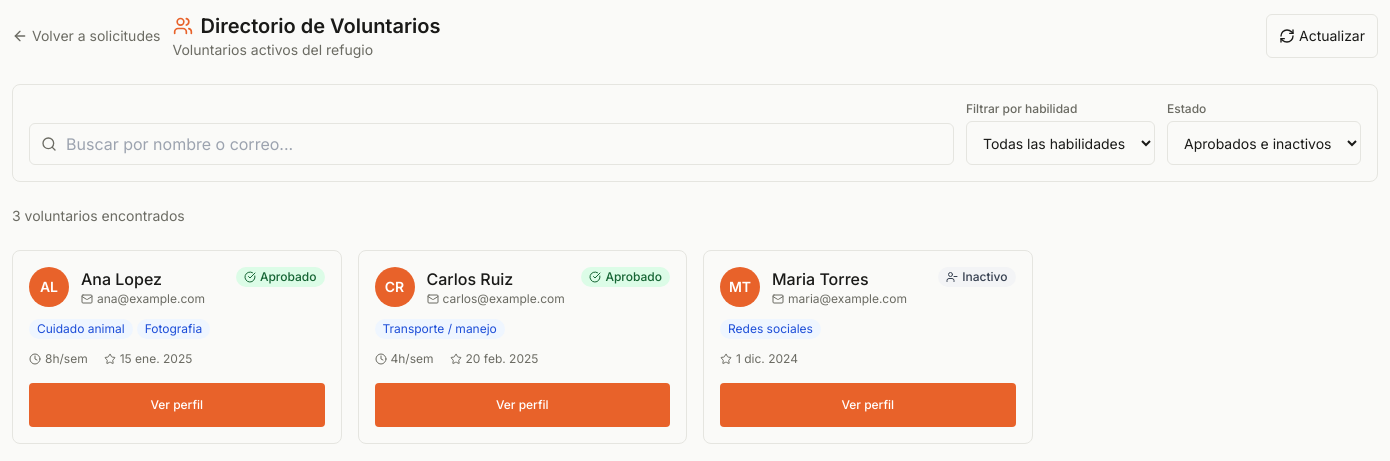
Test: VolunteerDirectoryPage › filters volunteers by name search
The width and height of the screenshot is (1390, 461).
Expected: the text "Ana Lopez" is shown, [81,269,162,289]
Type "carlos" into the field with placeholder "Buscar por nombre o correo...". click: x=492, y=144
box: [29,123,954,165]
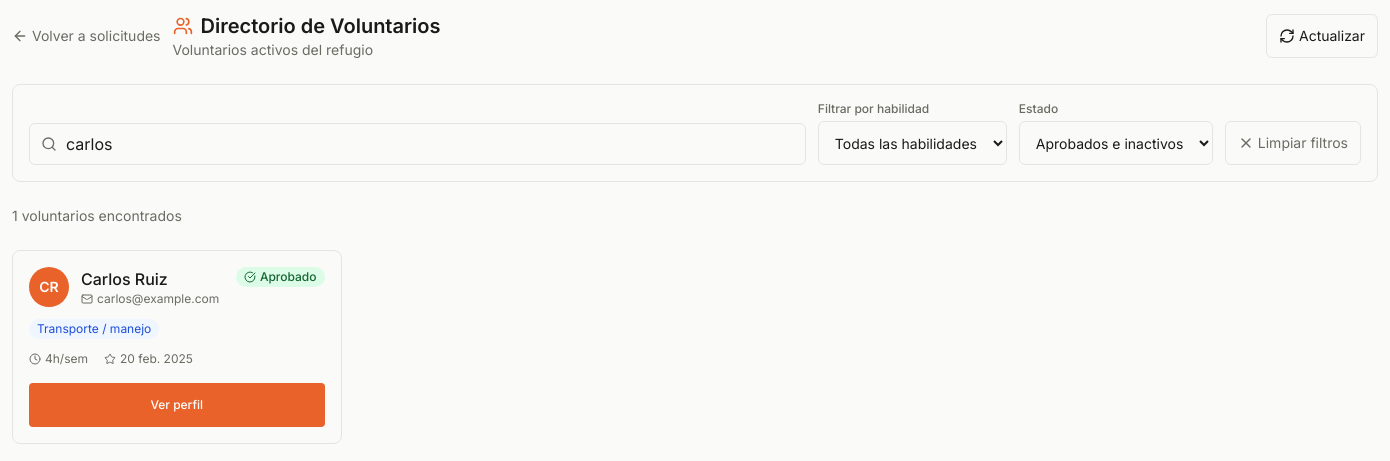
Expected: the text "Carlos Ruiz" is shown, [81,269,168,289]
Result: the text "Ana Lopez" is gone
